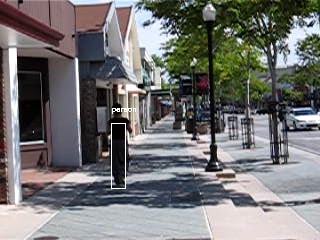person: (105, 103, 132, 188), (104, 103, 131, 188), (106, 103, 133, 188), (105, 102, 132, 187), (105, 104, 132, 189)
target_negative: (158, 194, 267, 227), (147, 118, 203, 151), (278, 150, 294, 192), (63, 46, 242, 48), (253, 53, 275, 62), (99, 216, 209, 217)
